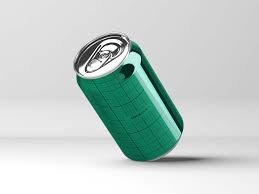can: (73, 30, 192, 164)
